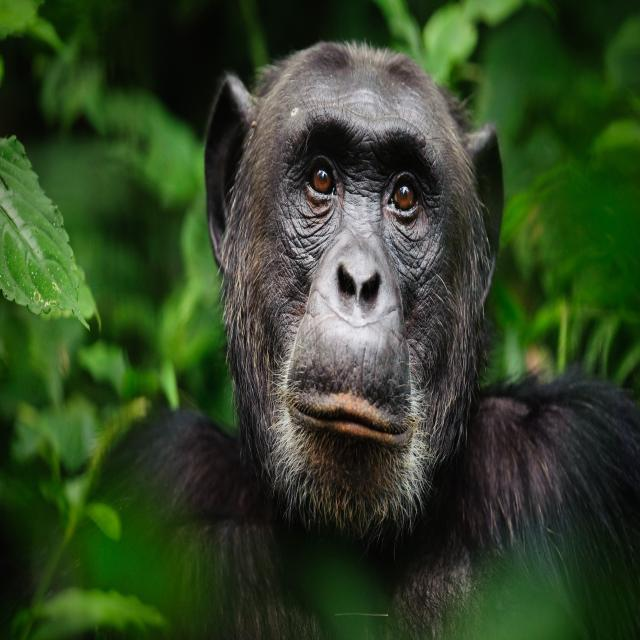Chimpanzee: (81, 31, 627, 595)
